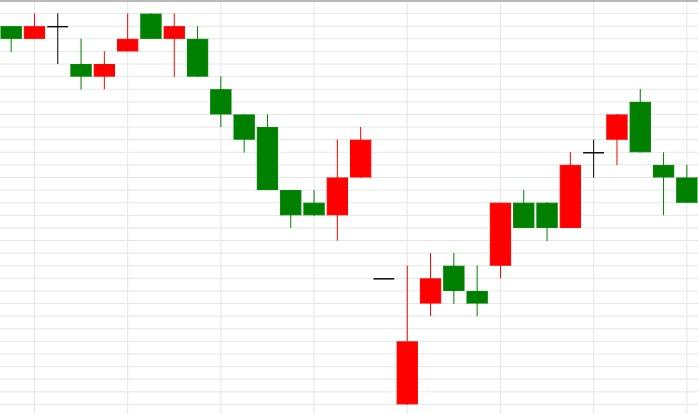bullish_engulfing_rise: (139, 12, 349, 241)
three_black_crows_fall: (466, 89, 698, 316)
